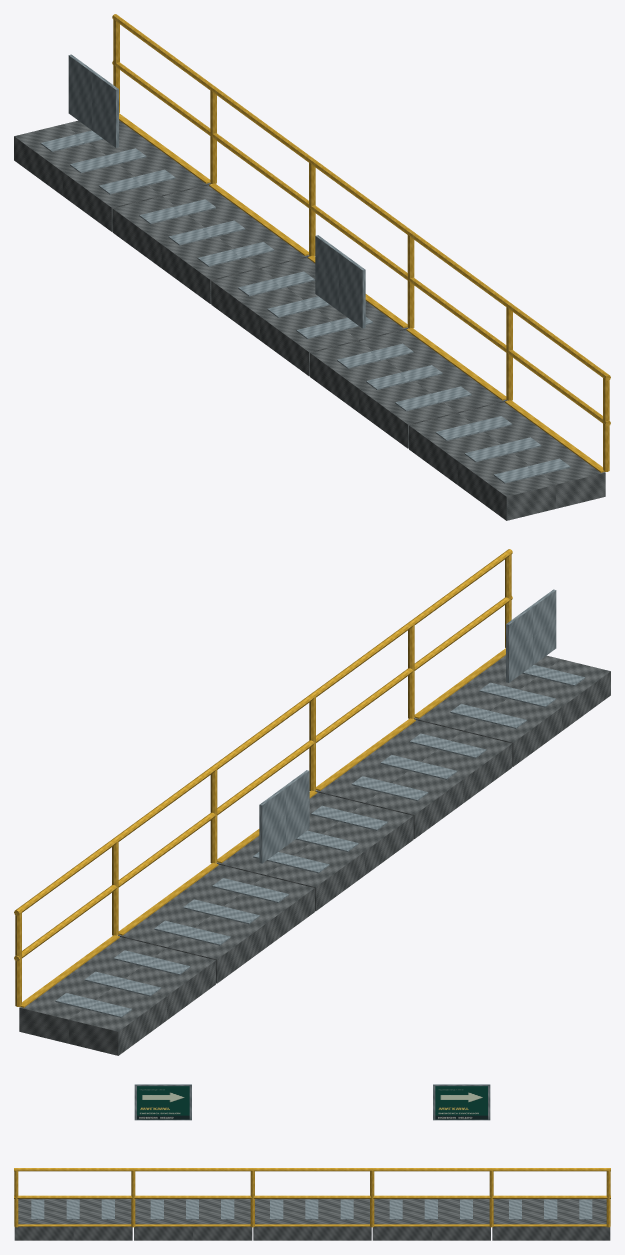
Rendered from PZ_Metro_10m_Evacuation_Walkway.glb.
3 views of the same model, one above another, from view 1: azimuth 30°, elevation 25°; view 2: azimuth 150°, elevation 25°; view 3: azimuth 270°, elevation 25° (orthographic). The views are drawn at different scales.
Visible parts, largest first — view 1: EVAC_Walkway_Panel_01, EVAC_Walkway_Panel_04, EVAC_Walkway_Panel_02, EVAC_Walkway_Panel_05, EVAC_Walkway_Panel_03, WAYFINDING_01_Backplate, WAYFINDING_02_Backplate, EVAC_AntiSlipGrate_01_1, EVAC_AntiSlipGrate_01_2, EVAC_AntiSlipGrate_02_3, EVAC_AntiSlipGrate_04_2, EVAC_AntiSlipGrate_01_3 (+23 smaller); view 2: EVAC_Walkway_Panel_05, EVAC_Walkway_Panel_02, EVAC_Walkway_Panel_04, EVAC_Walkway_Panel_01, EVAC_Walkway_Panel_03, WAYFINDING_01_Backplate, WAYFINDING_02_Backplate, EVAC_AntiSlipGrate_02_3, EVAC_AntiSlipGrate_04_3, EVAC_AntiSlipGrate_02_1, EVAC_AntiSlipGrate_02_2, EVAC_AntiSlipGrate_03_1 (+23 smaller); view 3: EVAC_Walkway_Panel_04, EVAC_Walkway_Panel_03, EVAC_Walkway_Panel_02, EVAC_Walkway_Panel_01, EVAC_Walkway_Panel_05, WAYFINDING_01_REPLACEABLE_MORROW_METRO, WAYFINDING_02_REPLACEABLE_MORROW_METRO, WALKWAY_Top_Handrail_03, WALKWAY_Top_Handrail_02, WALKWAY_Top_Handrail_04, WALKWAY_Top_Handrail_01, WALKWAY_Top_Handrail_05 (+33 smaller).
Part boxes in pixels (x1,y1,x2,y2): EVAC_Walkway_Panel_01: (409, 402, 605, 520); EVAC_Walkway_Panel_04: (112, 185, 309, 303); EVAC_Walkway_Panel_02: (310, 329, 506, 448); EVAC_Walkway_Panel_05: (14, 120, 210, 231); EVAC_Walkway_Panel_03: (211, 257, 407, 376); WAYFINDING_01_Backplate: (315, 235, 365, 328); WAYFINDING_02_Backplate: (68, 54, 118, 147); EVAC_AntiSlipGrate_01_1: (494, 458, 570, 483); EVAC_AntiSlipGrate_01_2: (464, 437, 541, 462); EVAC_AntiSlipGrate_02_3: (337, 343, 413, 368); EVAC_AntiSlipGrate_04_2: (168, 220, 245, 245); EVAC_AntiSlipGrate_01_3: (435, 416, 512, 440); EVAC_Walkway_Panel_05: (19, 937, 215, 1055); EVAC_Walkway_Panel_02: (315, 720, 512, 838); EVAC_Walkway_Panel_04: (118, 864, 314, 983); EVAC_Walkway_Panel_01: (414, 655, 610, 766); EVAC_Walkway_Panel_03: (217, 792, 413, 911); WAYFINDING_01_Backplate: (506, 589, 556, 682); WAYFINDING_02_Backplate: (259, 770, 309, 863); EVAC_AntiSlipGrate_02_3: (351, 776, 428, 801); EVAC_AntiSlipGrate_04_3: (154, 920, 230, 945); EVAC_AntiSlipGrate_02_1: (409, 733, 486, 758); EVAC_AntiSlipGrate_02_2: (380, 754, 457, 779); EVAC_AntiSlipGrate_03_1: (311, 805, 387, 830); EVAC_Walkway_Panel_04: (372, 1199, 490, 1240); EVAC_Walkway_Panel_03: (253, 1199, 371, 1240); EVAC_Walkway_Panel_02: (134, 1199, 252, 1240); EVAC_Walkway_Panel_01: (14, 1199, 132, 1240); EVAC_Walkway_Panel_05: (492, 1199, 610, 1240); WAYFINDING_01_REPLACEABLE_MORROW_METRO: (137, 1086, 189, 1119); WAYFINDING_02_REPLACEABLE_MORROW_METRO: (435, 1086, 487, 1119); WALKWAY_Top_Handrail_03: (252, 1168, 372, 1171); WALKWAY_Top_Handrail_02: (133, 1168, 252, 1171); WALKWAY_Top_Handrail_04: (372, 1168, 491, 1171); WALKWAY_Top_Handrail_01: (14, 1168, 133, 1171); WALKWAY_Top_Handrail_05: (491, 1168, 610, 1171).
Size of the model in its own units: 1.74 by 2.11 by 10.
Materials: 4 (4 with a texture image).
